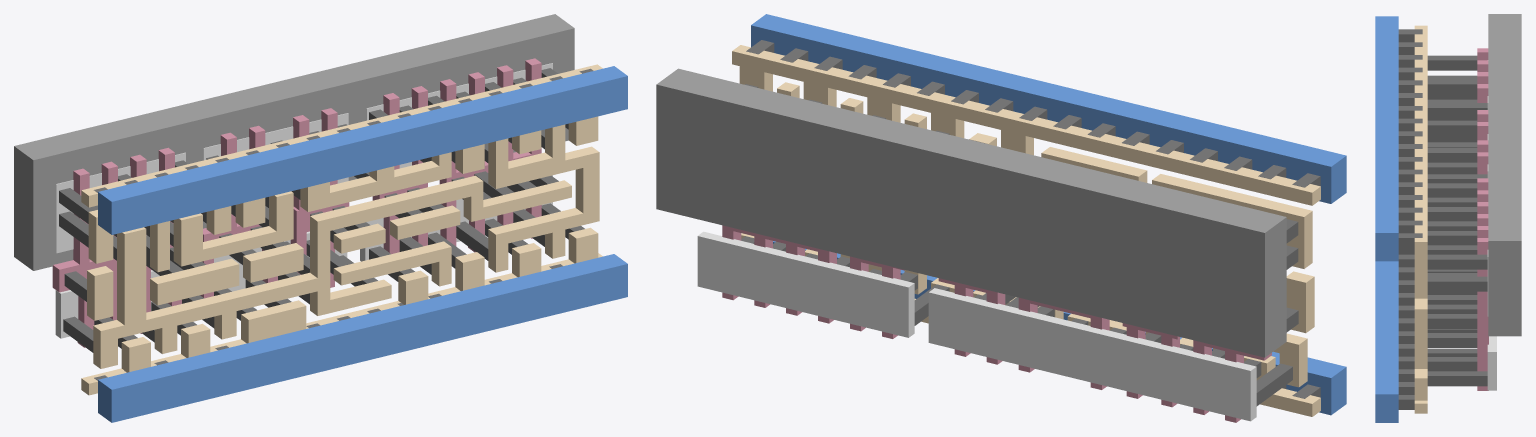
Rendered from sky130_fd_sc_hd__a2111o_4.gds.gltf.
The picture shows the model from 3 angles, left to right: view 1: azimuth 30°, elevation 25°; view 2: azimuth 150°, elevation 25°; view 3: azimuth 270°, elevation 25°; orthographic projection. The views are drawn at different scales.
Visible parts, largest first — view 1: sky130_fd_sc_hd__a2111o_4_li1, sky130_fd_sc_hd__a2111o_4_met1, sky130_fd_sc_hd__a2111o_4_nwell, sky130_fd_sc_hd__a2111o_4_licon, sky130_fd_sc_hd__a2111o_4_poly, sky130_fd_sc_hd__a2111o_4_diff, sky130_fd_sc_hd__a2111o_4_mcon; view 2: sky130_fd_sc_hd__a2111o_4_nwell, sky130_fd_sc_hd__a2111o_4_diff, sky130_fd_sc_hd__a2111o_4_li1, sky130_fd_sc_hd__a2111o_4_met1, sky130_fd_sc_hd__a2111o_4_poly, sky130_fd_sc_hd__a2111o_4_mcon, sky130_fd_sc_hd__a2111o_4_licon; view 3: sky130_fd_sc_hd__a2111o_4_licon, sky130_fd_sc_hd__a2111o_4_nwell, sky130_fd_sc_hd__a2111o_4_met1, sky130_fd_sc_hd__a2111o_4_mcon, sky130_fd_sc_hd__a2111o_4_li1, sky130_fd_sc_hd__a2111o_4_poly, sky130_fd_sc_hd__a2111o_4_diff.
Part boxes in pixels (x1=…): sky130_fd_sc_hd__a2111o_4_li1: x1=81, y1=64, x2=602, y2=395; sky130_fd_sc_hd__a2111o_4_met1: x1=98, y1=66, x2=627, y2=422; sky130_fd_sc_hd__a2111o_4_nwell: x1=14, y1=14, x2=574, y2=270; sky130_fd_sc_hd__a2111o_4_licon: x1=59, y1=68, x2=584, y2=352; sky130_fd_sc_hd__a2111o_4_poly: x1=52, y1=58, x2=541, y2=347; sky130_fd_sc_hd__a2111o_4_diff: x1=55, y1=63, x2=552, y2=338; sky130_fd_sc_hd__a2111o_4_mcon: x1=94, y1=68, x2=593, y2=380; sky130_fd_sc_hd__a2111o_4_nwell: x1=656, y1=68, x2=1286, y2=357; sky130_fd_sc_hd__a2111o_4_diff: x1=697, y1=231, x2=1256, y2=421; sky130_fd_sc_hd__a2111o_4_li1: x1=732, y1=45, x2=1320, y2=416; sky130_fd_sc_hd__a2111o_4_met1: x1=751, y1=14, x2=1346, y2=415; sky130_fd_sc_hd__a2111o_4_poly: x1=722, y1=225, x2=1271, y2=422; sky130_fd_sc_hd__a2111o_4_mcon: x1=746, y1=40, x2=1320, y2=398; sky130_fd_sc_hd__a2111o_4_licon: x1=741, y1=84, x2=1298, y2=406; sky130_fd_sc_hd__a2111o_4_licon: x1=1427, y1=55, x2=1487, y2=386; sky130_fd_sc_hd__a2111o_4_nwell: x1=1488, y1=14, x2=1521, y2=336; sky130_fd_sc_hd__a2111o_4_met1: x1=1375, y1=16, x2=1398, y2=422; sky130_fd_sc_hd__a2111o_4_mcon: x1=1398, y1=29, x2=1422, y2=409; sky130_fd_sc_hd__a2111o_4_li1: x1=1414, y1=25, x2=1427, y2=413; sky130_fd_sc_hd__a2111o_4_poly: x1=1477, y1=48, x2=1488, y2=390; sky130_fd_sc_hd__a2111o_4_diff: x1=1487, y1=96, x2=1496, y2=390.
Size of the model in its own units: 8.2 by 3.2 by 2.24.
